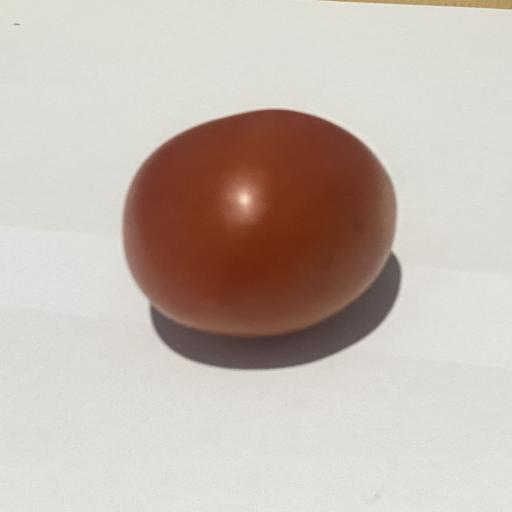ripe: (123, 110, 396, 336)
